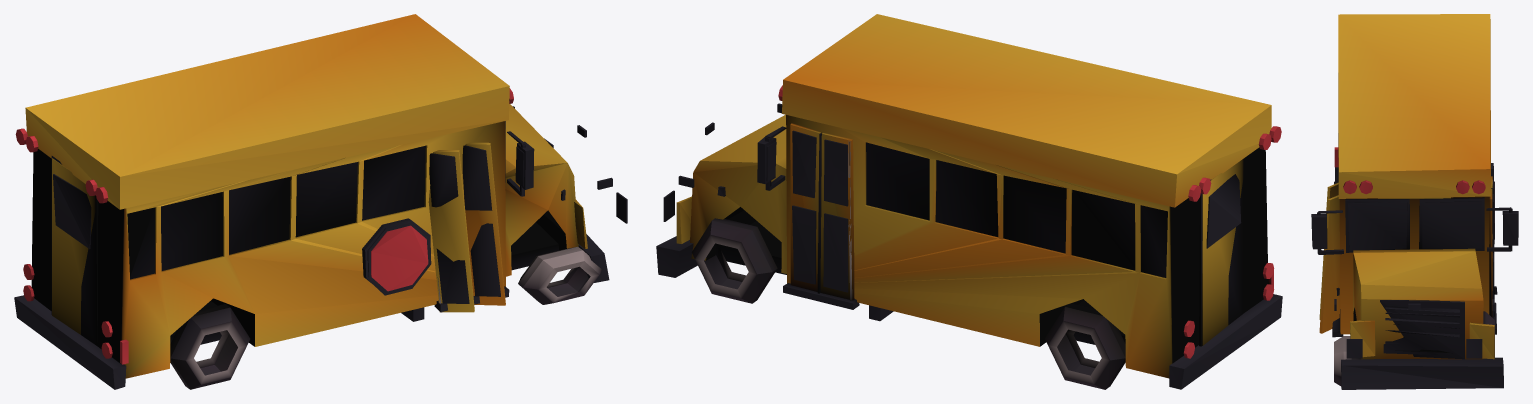
Rendered from veh.school-bus.wrecked.lod2.glb.
The picture shows the model from 3 angles, left to right: view 1: azimuth 30°, elevation 25°; view 2: azimuth 150°, elevation 25°; view 3: azimuth 270°, elevation 25°; orthographic projection. The views are drawn at different scales.
Parts seen in each view (by area): view 1: body, wheelRR, wheelFR; view 2: body, wheelFL, wheelRL; view 3: body, wheelFR.
Part boxes in pixels (bbox=[...]): body: bbox=[14, 14, 627, 389]; wheelRR: bbox=[170, 304, 250, 389]; wheelFR: bbox=[518, 246, 601, 304]; body: bbox=[656, 14, 1282, 389]; wheelFL: bbox=[691, 218, 777, 303]; wheelRL: bbox=[1045, 303, 1125, 389]; body: bbox=[1311, 14, 1518, 389]; wheelFR: bbox=[1334, 336, 1360, 386].
Bounding box in the file's own units: 7.82 × 3.34 × 3.3.
